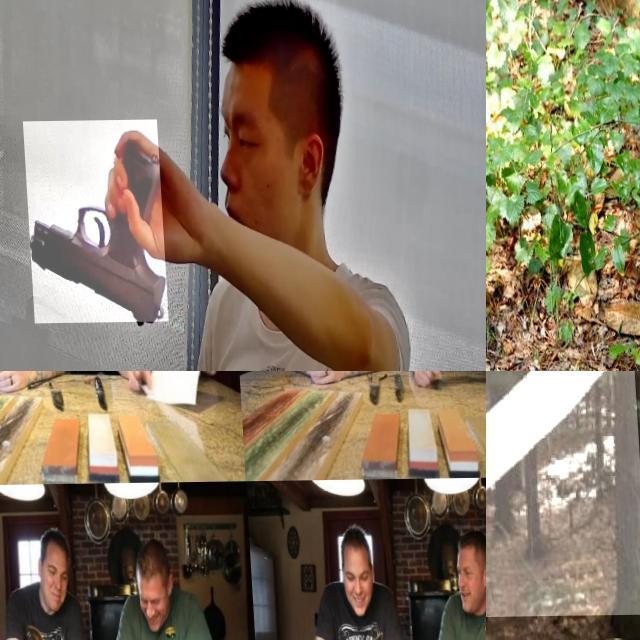-: (486, 371, 640, 618), (403, 371, 450, 399), (148, 371, 175, 406), (16, 613, 46, 640), (332, 624, 381, 640)
gun-knife-thesis - v11 Yolov5 augmented: (21, 120, 164, 324)
